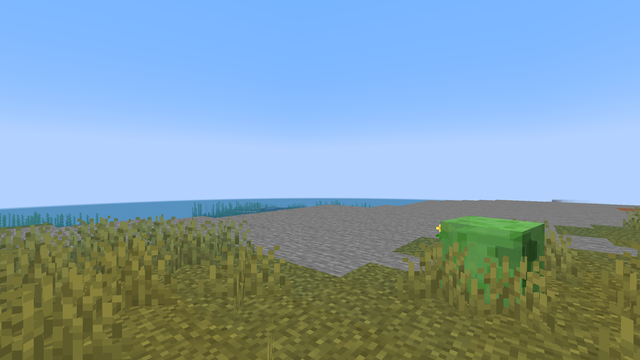slimes: (443, 213, 537, 317)
